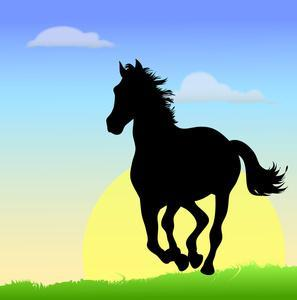horse: (96, 55, 285, 277)
